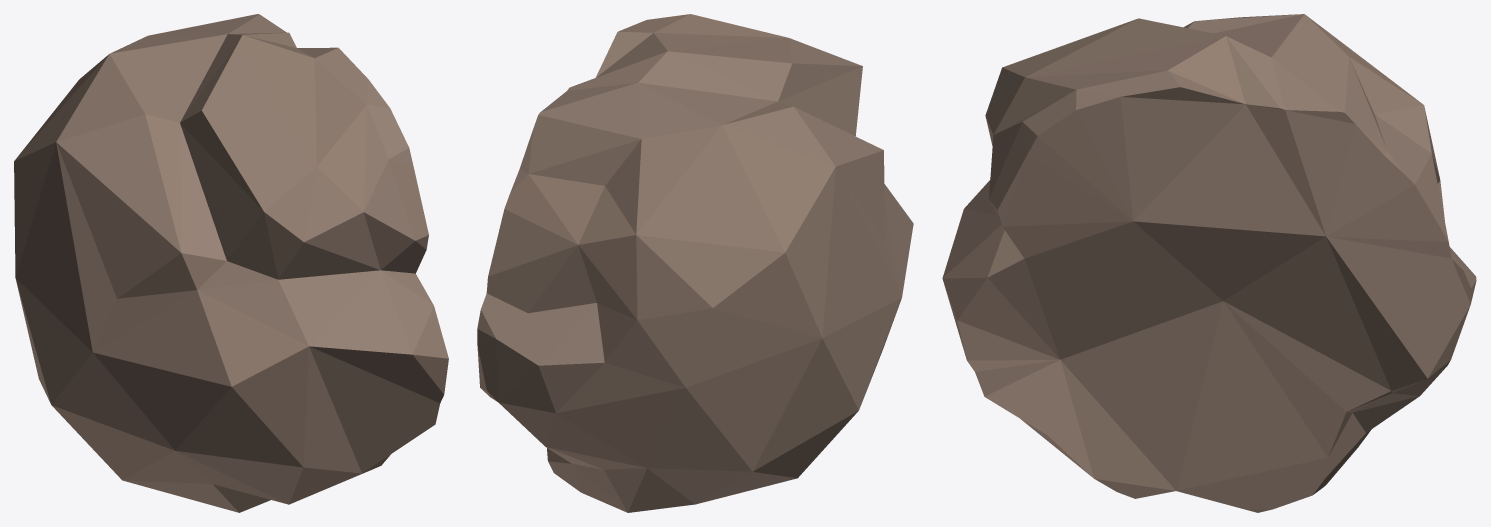
Rendered from LevelPlanet.dae.
The picture shows the model from 3 angles, left to right: view 1: azimuth 30°, elevation 25°; view 2: azimuth 150°, elevation 25°; view 3: azimuth 270°, elevation 25°; orthographic projection. The views are drawn at different scales.
Visible parts, largest first — view 1: LevelPlanet; view 2: LevelPlanet; view 3: LevelPlanet.
Part boxes in pixels (x1=…): LevelPlanet: x1=14, y1=14, x2=448, y2=512; LevelPlanet: x1=477, y1=14, x2=913, y2=512; LevelPlanet: x1=942, y1=14, x2=1476, y2=512.
Bounding box in the file's own units: 1.33 × 2.11 × 2.04.
